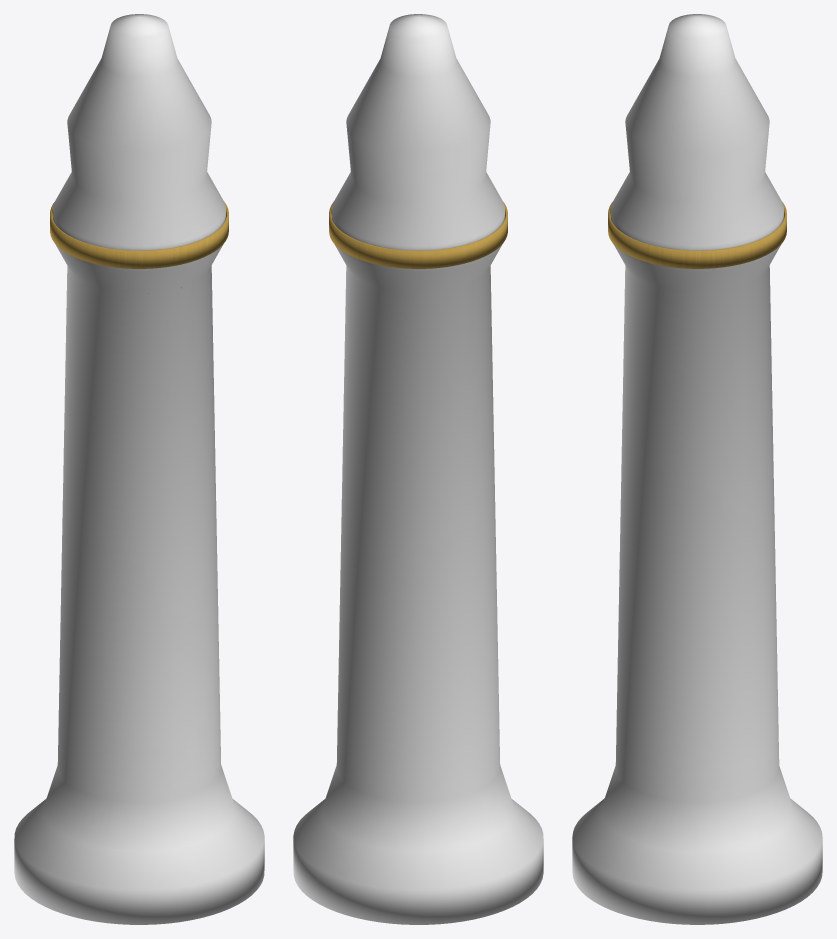
File: cast-iron-black.glb
3 renders of one model, left to right at view 1: azimuth 30°, elevation 25°; view 2: azimuth 150°, elevation 25°; view 3: azimuth 270°, elevation 25°, orthographic.
Visible parts, largest first — view 1: paint_primary, gilt; view 2: paint_primary, gilt; view 3: paint_primary, gilt.
Boxes of the visible parts, box(x1,y1,x2,y2) form: paint_primary: box(14, 14, 264, 924); gilt: box(50, 201, 228, 268); paint_primary: box(293, 14, 543, 924); gilt: box(329, 201, 507, 268); paint_primary: box(572, 14, 822, 924); gilt: box(608, 202, 786, 268).
Size of the model in its own units: 0.26 by 0.98 by 0.26.
Materials: 2 (2 with a texture image).
